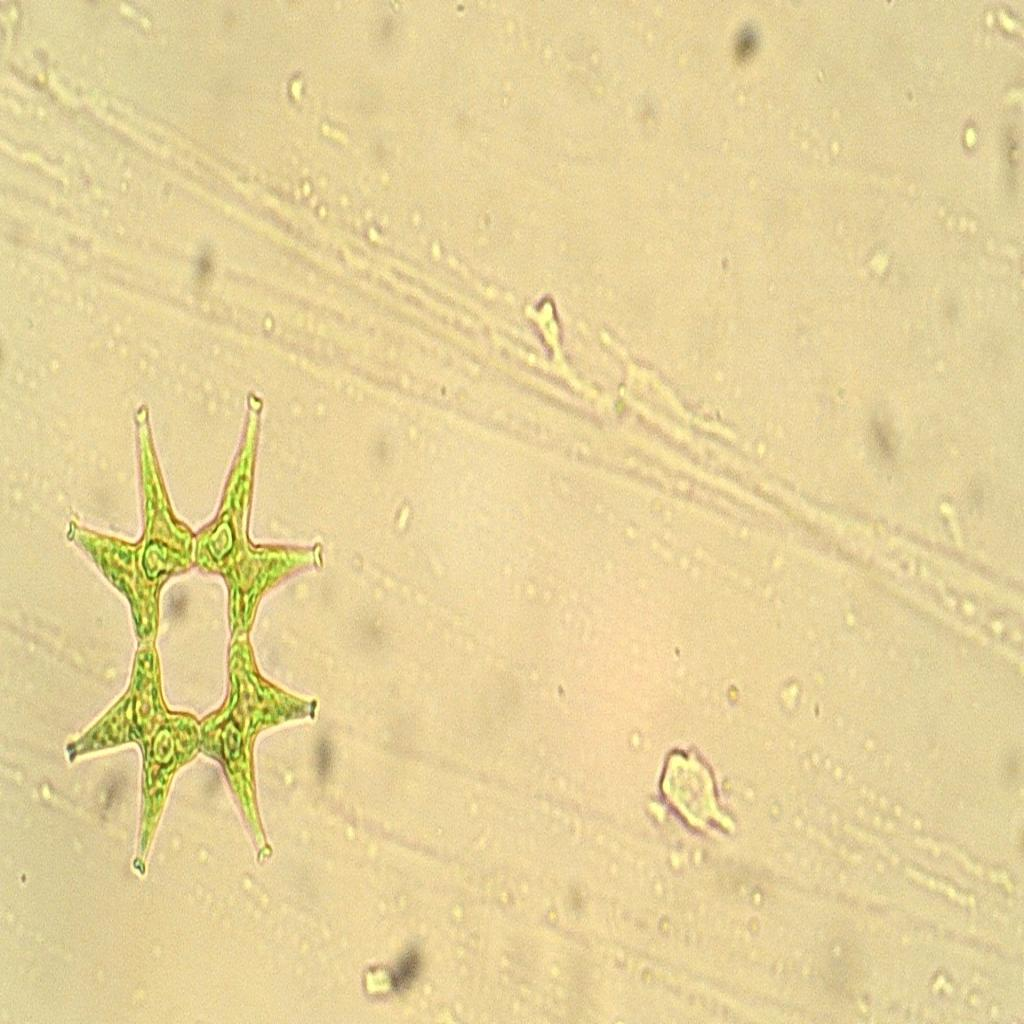Pediastrum_10: (46, 378, 338, 891)
